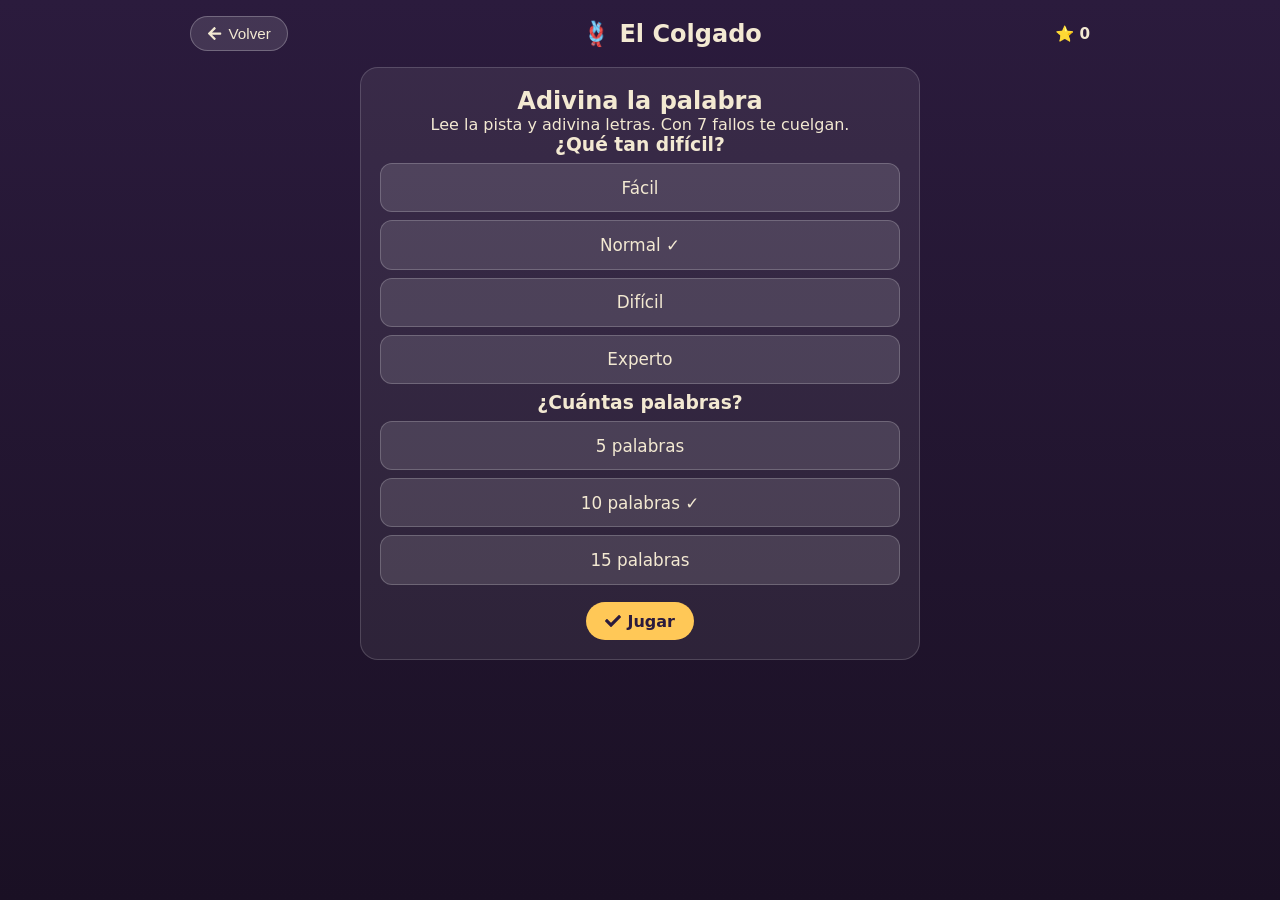
Test: El Colgado › una letra correcta completa su hueco y una fallada cuesta un corazón
The width and height of the screenshot is (1280, 900).
Click the button "Jugar".
click(640, 621)  # box [586,602,694,640]
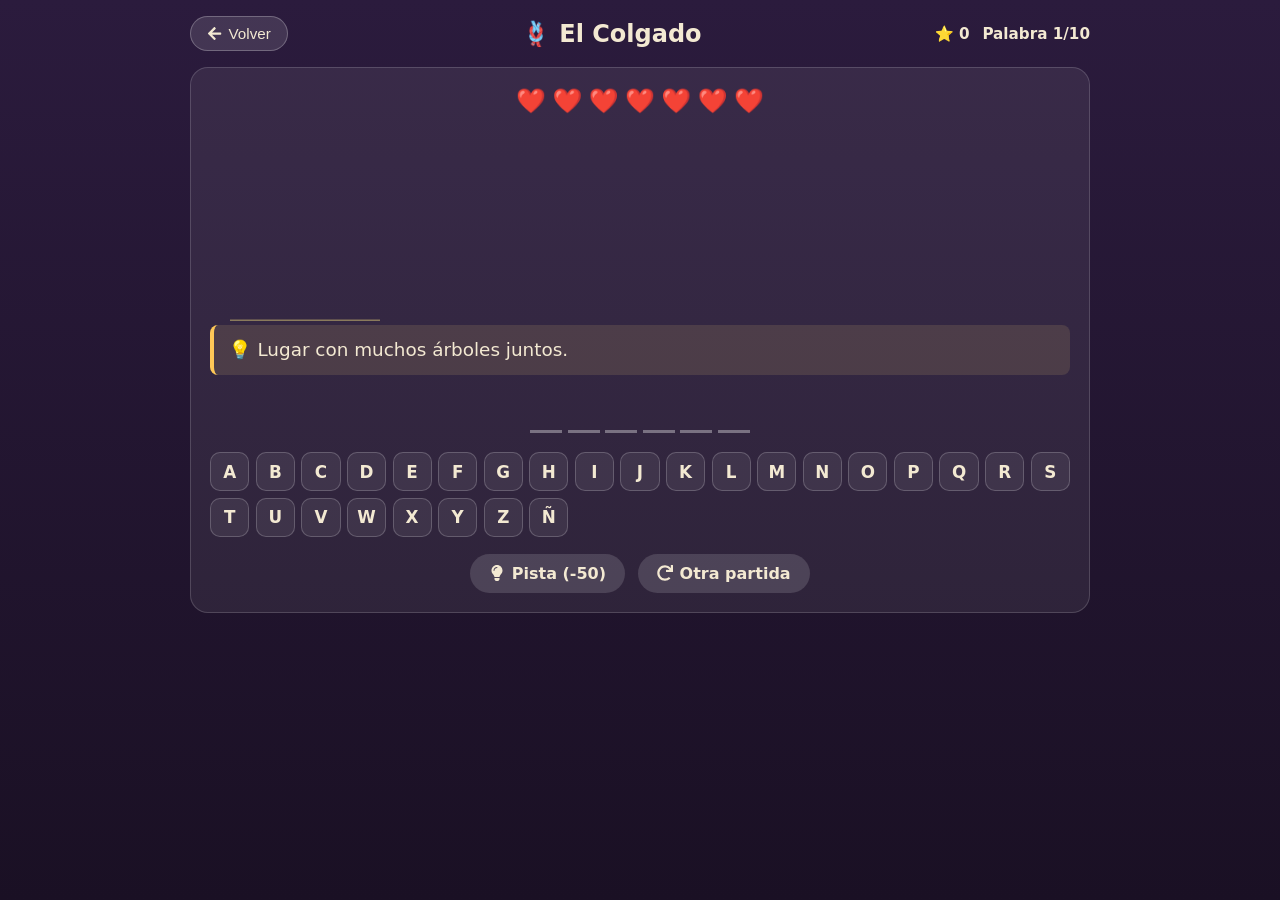
Check: the text "Palabra 1/10" is shown, box [982,24,1090,42]
